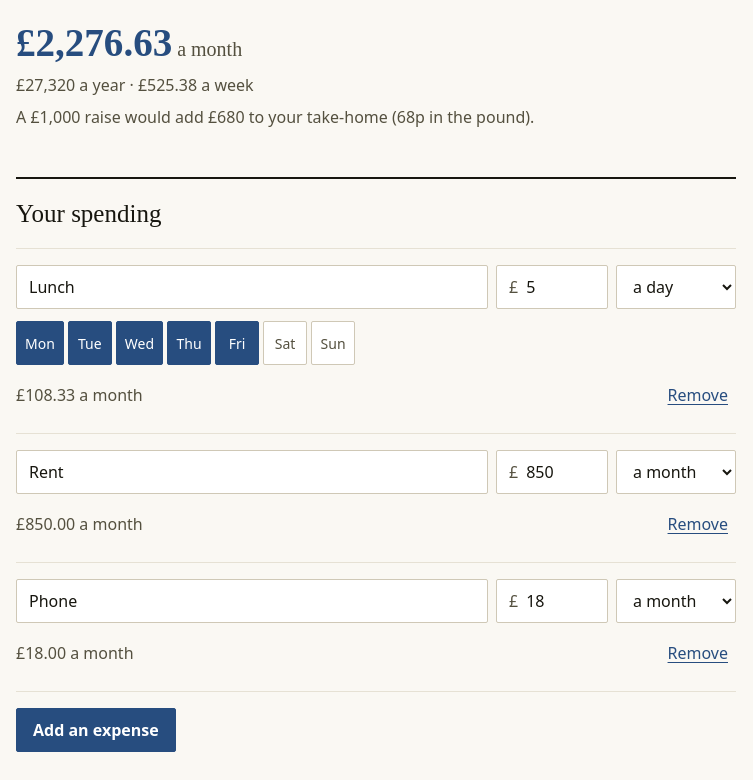
Test: Budgeter › shows the empty state with no expenses
(page scrolled)
Click the button "Remove" in the row of "£108.33 a month". click: [698, 395]
box: [660,373,736,417]
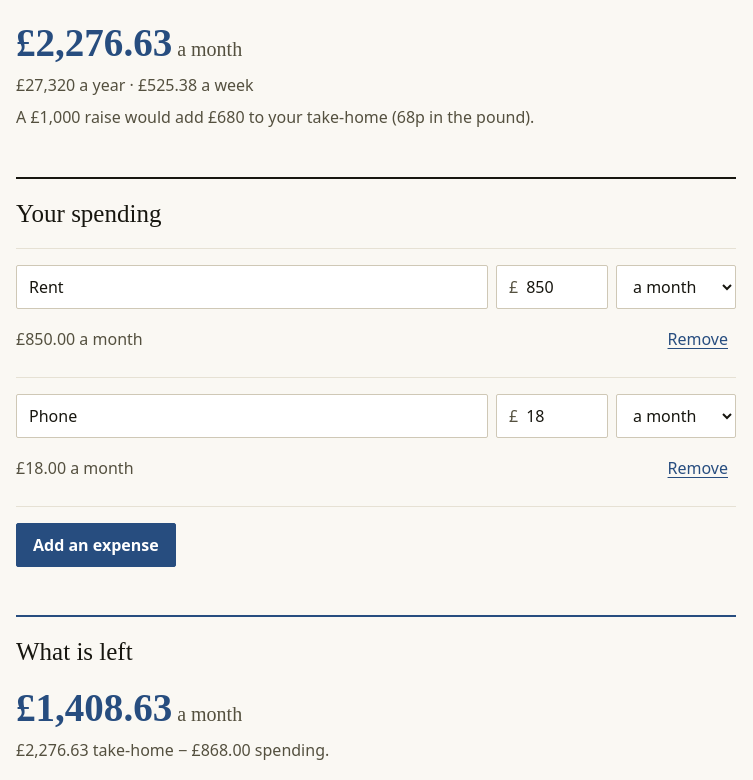
Click the button "Remove" in the row of "£850.00 a month". click: [698, 339]
box: [660,317,736,361]
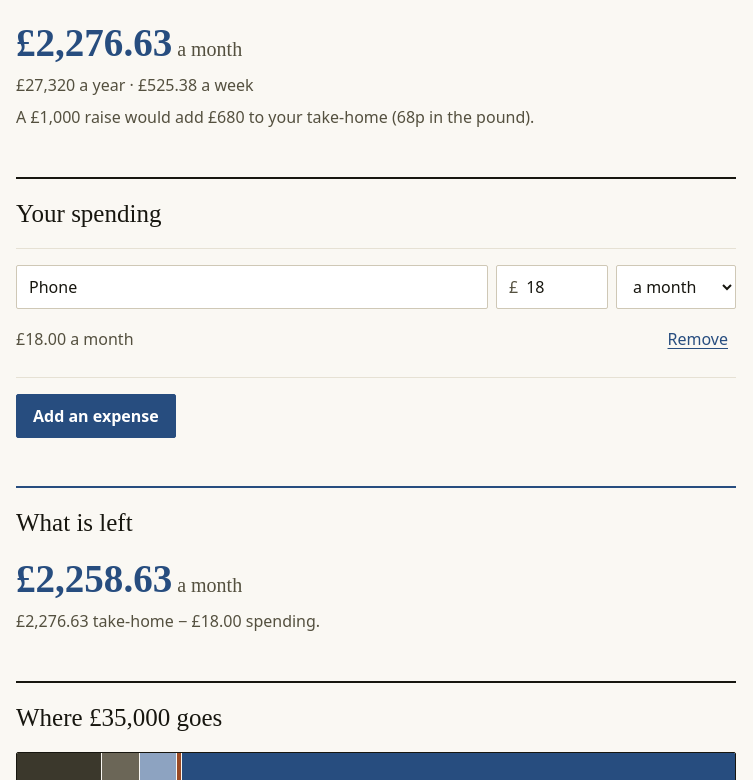
Click the button "Remove". click: [698, 339]
box: [660,317,736,361]
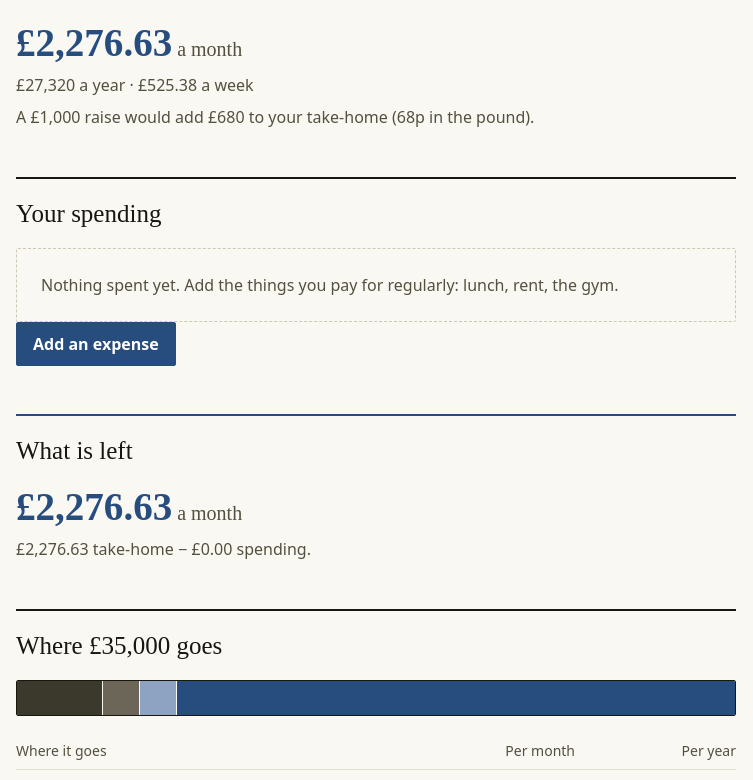
Check: the text "Nothing spent yet" is shown, box [41,274,618,296]
